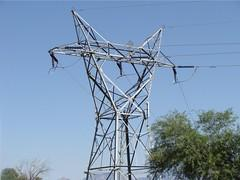power_tower: (52, 9, 177, 180)
